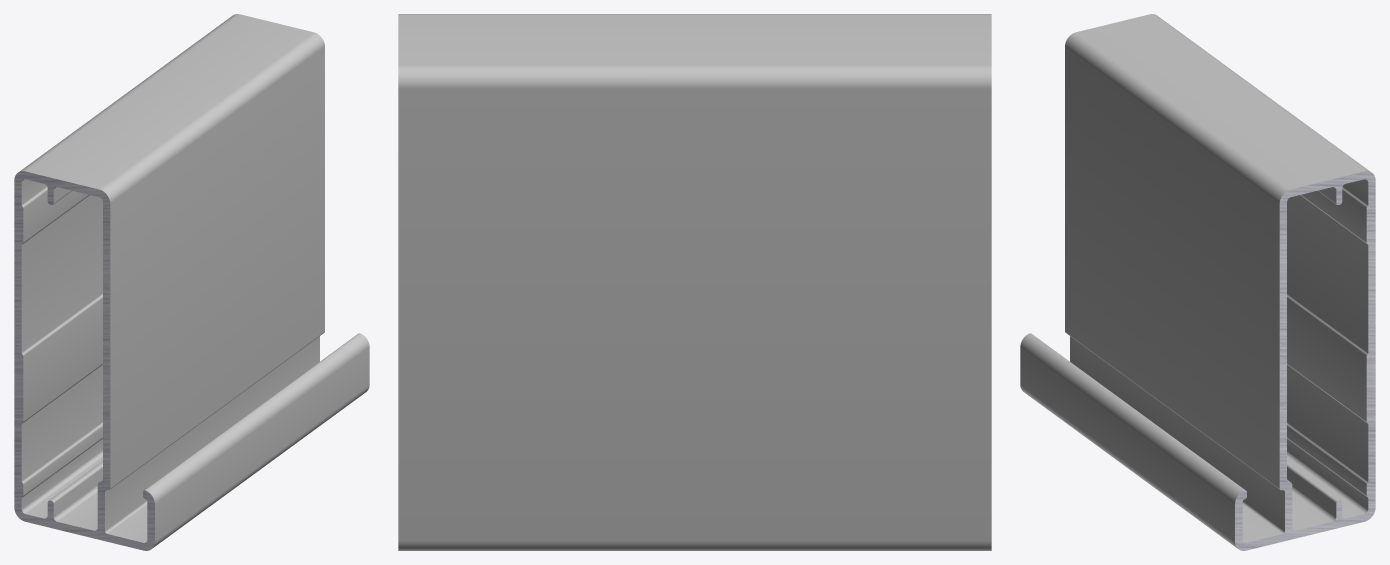
The picture shows the model from 3 angles, left to right: view 1: azimuth 30°, elevation 25°; view 2: azimuth 150°, elevation 25°; view 3: azimuth 270°, elevation 25°; orthographic projection. The views are drawn at different scales.
Parts seen in each view (by area): view 1: 1036; view 2: 1036; view 3: 1036.
Boxes of the visible parts, x1,y1,x2,y2 form: 1036: (14,14,369,550); 1036: (398,14,991,550); 1036: (1020,14,1375,550).
Size of the model in its own units: 0.0528 by 0.045 by 0.0414.
Materials: 2 (1 with a texture image).
